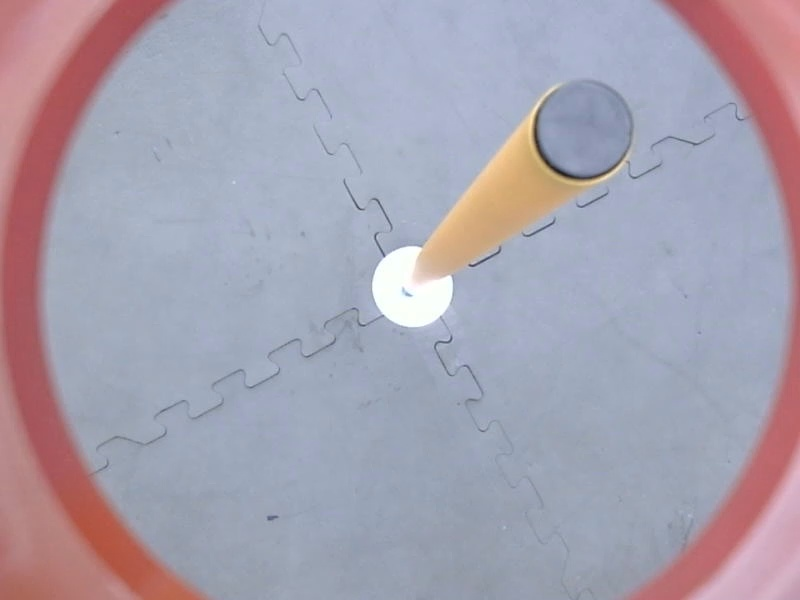tip: (520, 72, 643, 191)
